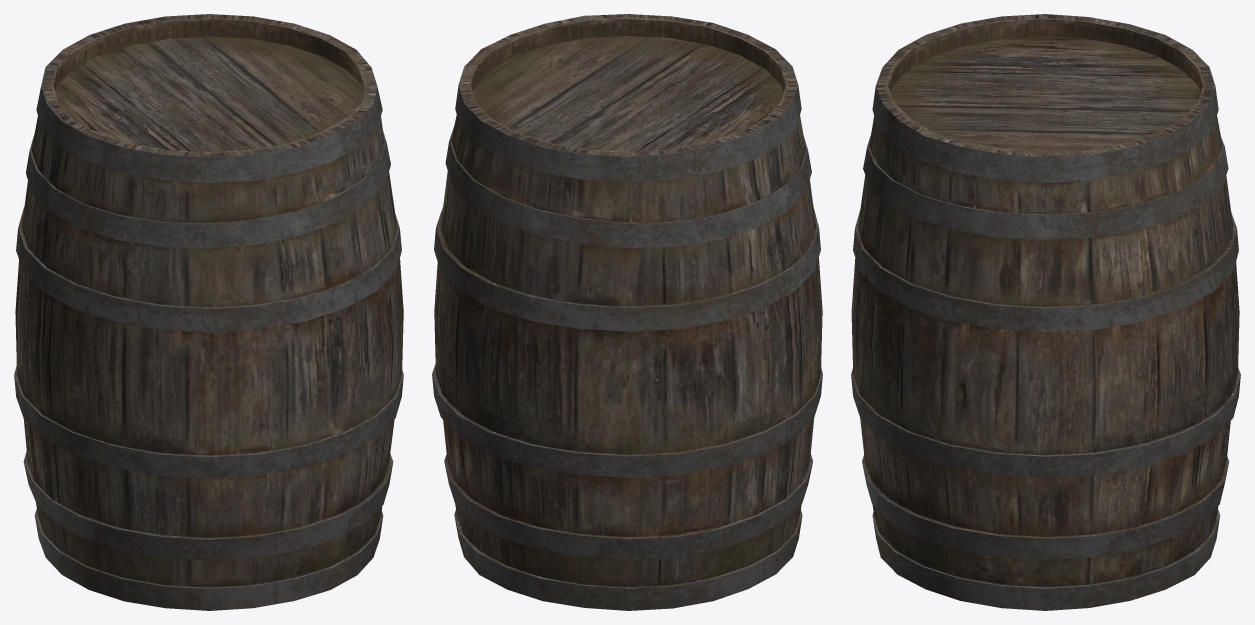
File: Barrel_01.glb
3 views of the same model, side by side, from view 1: azimuth 30°, elevation 25°; view 2: azimuth 150°, elevation 25°; view 3: azimuth 270°, elevation 25° (orthographic).
Visible parts, largest first — view 1: SM_Barrel_01; view 2: SM_Barrel_01; view 3: SM_Barrel_01.
Boxes of the visible parts, x1,y1,x2,y2 form: SM_Barrel_01: (14,14,403,610); SM_Barrel_01: (432,14,822,610); SM_Barrel_01: (851,14,1240,610).
Size of the model in its own units: 0.795 by 1.02 by 0.7964.
Materials: 1 (1 with a texture image).
